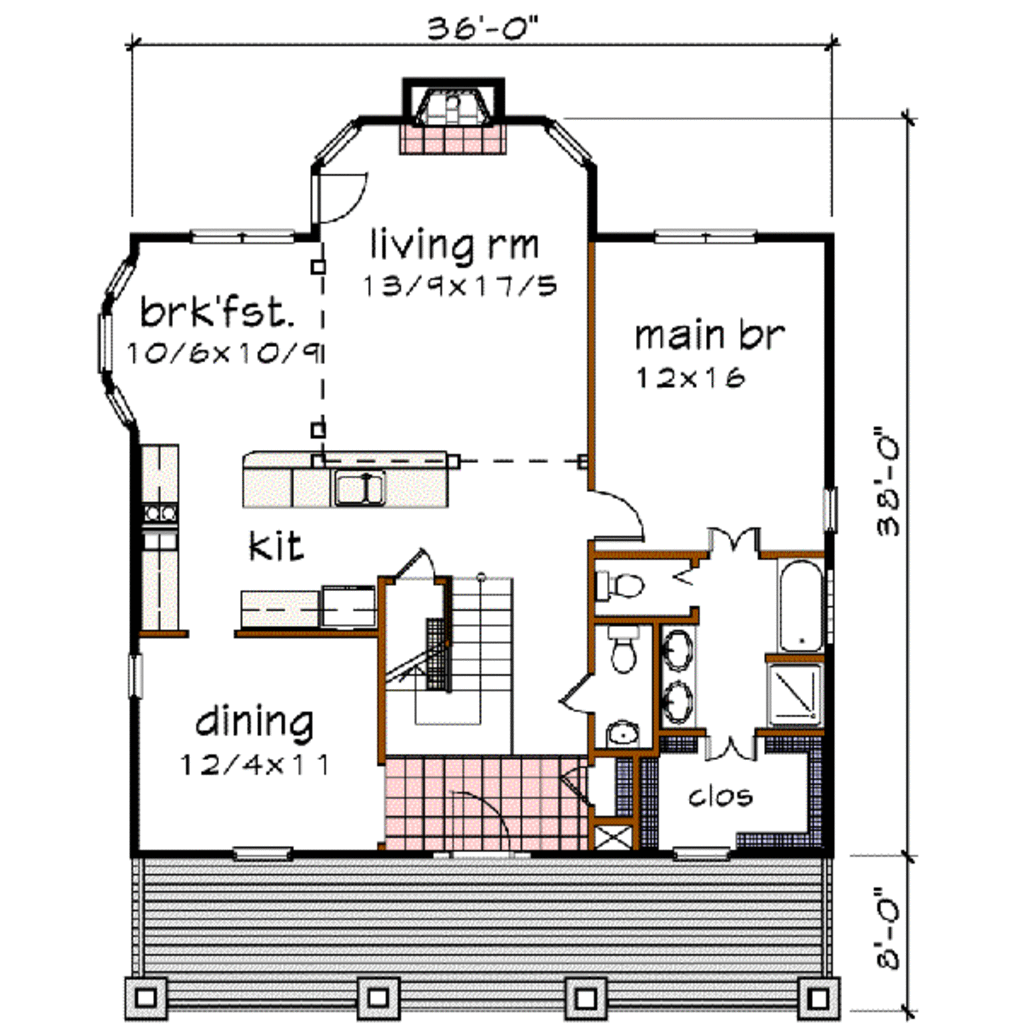door: (302, 169, 397, 228), (445, 788, 519, 858), (581, 478, 650, 549), (392, 532, 442, 582), (702, 727, 763, 767), (550, 758, 603, 803), (555, 671, 598, 719), (697, 528, 766, 557)
large_sink: (597, 622, 652, 688), (591, 555, 648, 613)
small_sink: (656, 619, 692, 727), (597, 713, 658, 747)
stairs: (380, 577, 528, 752)
tub: (769, 557, 831, 655)
twin_sink: (317, 460, 409, 522)
window: (97, 255, 138, 427), (191, 222, 298, 252), (647, 224, 764, 249), (670, 841, 733, 864), (820, 488, 842, 546), (125, 652, 148, 703), (231, 839, 291, 853)
